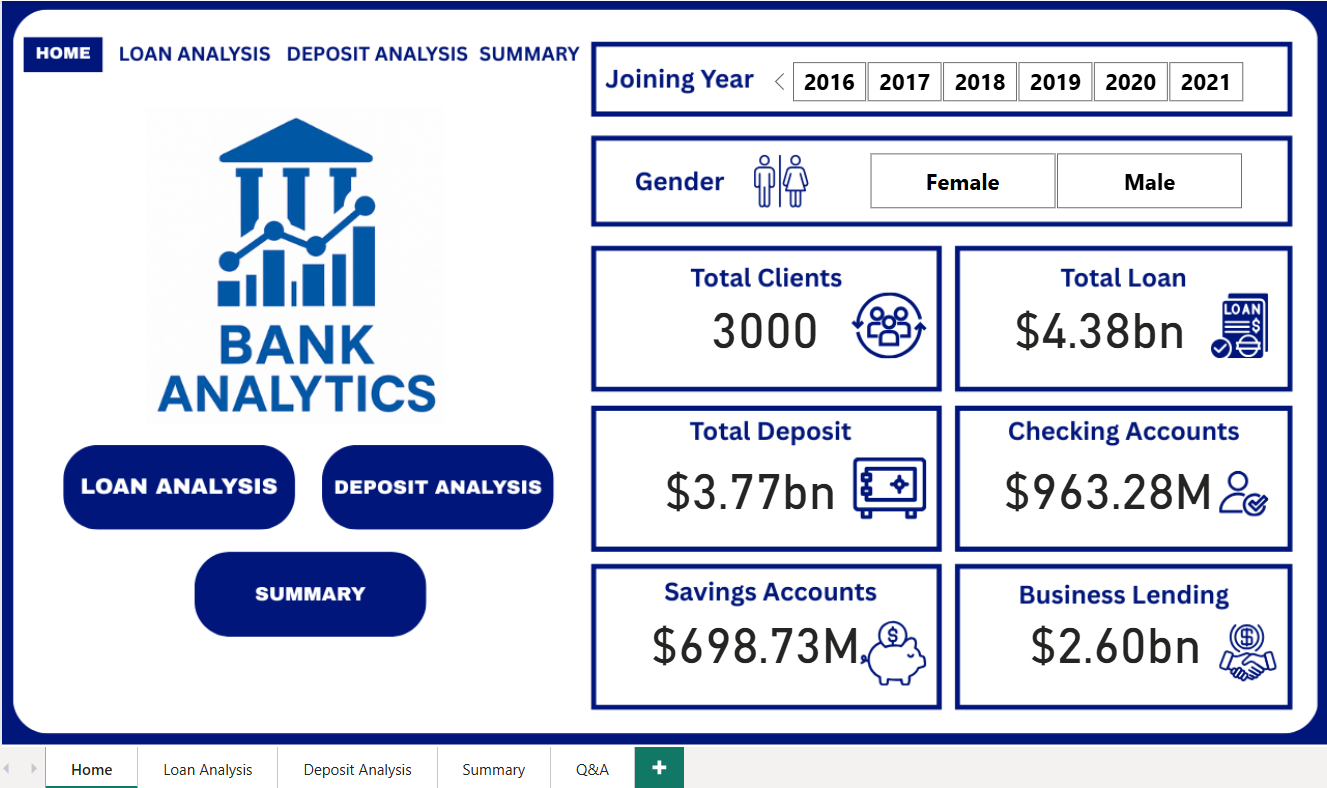

This screenshot's page, from the dashboard's own definition file:
{"tool":"powerbi","page":{"name":"Home","canvas":[1280,720],"ordinal":0},"visuals":[{"type":"card","fields":{"Values":["Explicit Measures.Total Deposit"]},"box":[607.9,432.2,229.2,72.7],"z":0},{"type":"card","fields":{"Values":["Explicit Measures.Total Loan"]},"box":[945.5,275.8,227.8,72.7],"z":1000},{"type":"card","fields":{"Values":["Sum(public banking.saving_accounts)"]},"box":[607.9,580.4,238.8,72.7],"z":2000},{"type":"card","fields":{"Values":["Sum(public banking.checking_accounts)"]},"box":[945.5,432.2,244.3,72.7],"z":3000},{"type":"card","fields":{"Values":["Sum(public banking.business_lending)"]},"box":[945.5,580.4,258,72.7],"z":4000},{"type":"slicer","fields":{"Values":["public banking.genderid"]},"box":[812.4,140,408.9,67.2],"z":5000},{"type":"actionButton","box":[60.3,431.9,223.2,76],"z":6000},{"type":"actionButton","box":[188.2,532,223.2,84.5],"z":7000},{"type":"actionButton","box":[308.8,429.5,223.2,78.4],"z":8000},{"type":"actionButton","box":[102.9,31.6,164.7,39.8],"z":10000},{"type":"actionButton","box":[267.6,31.6,185.2,39.8],"z":11000},{"type":"actionButton","box":[452.8,32.9,112.5,39.8],"z":12000},{"type":"card","fields":{"Values":["CountNonNull(public banking.name)"]},"box":[661.4,275.8,150.9,72.7],"z":13000},{"type":"slicer","fields":{"Values":["public banking.joined_bank_Year"]},"box":[736.9,52.1,484.4,50.8],"z":15000}]}

Visuals, with their boxes on the page's 1280x720 design canvas (x1, y1, x2, y2). These are canvas units, not pixel positions in the 1327x788 screenshot, which may show the page scaled, cropped or inside an application window:
card - Explicit Measures.Total Deposit: (608, 432, 837, 505)
card - Explicit Measures.Total Loan: (946, 276, 1173, 348)
card - Sum(public banking.saving_accounts): (608, 580, 847, 653)
card - Sum(public banking.checking_accounts): (946, 432, 1190, 505)
card - Sum(public banking.business_lending): (946, 580, 1204, 653)
slicer - public banking.genderid: (812, 140, 1221, 207)
actionButton: (60, 432, 284, 508)
actionButton: (188, 532, 411, 616)
actionButton: (309, 430, 532, 508)
actionButton: (103, 32, 268, 71)
actionButton: (268, 32, 453, 71)
actionButton: (453, 33, 565, 73)
card - CountNonNull(public banking.name): (661, 276, 812, 348)
slicer - public banking.joined_bank_Year: (737, 52, 1221, 103)
